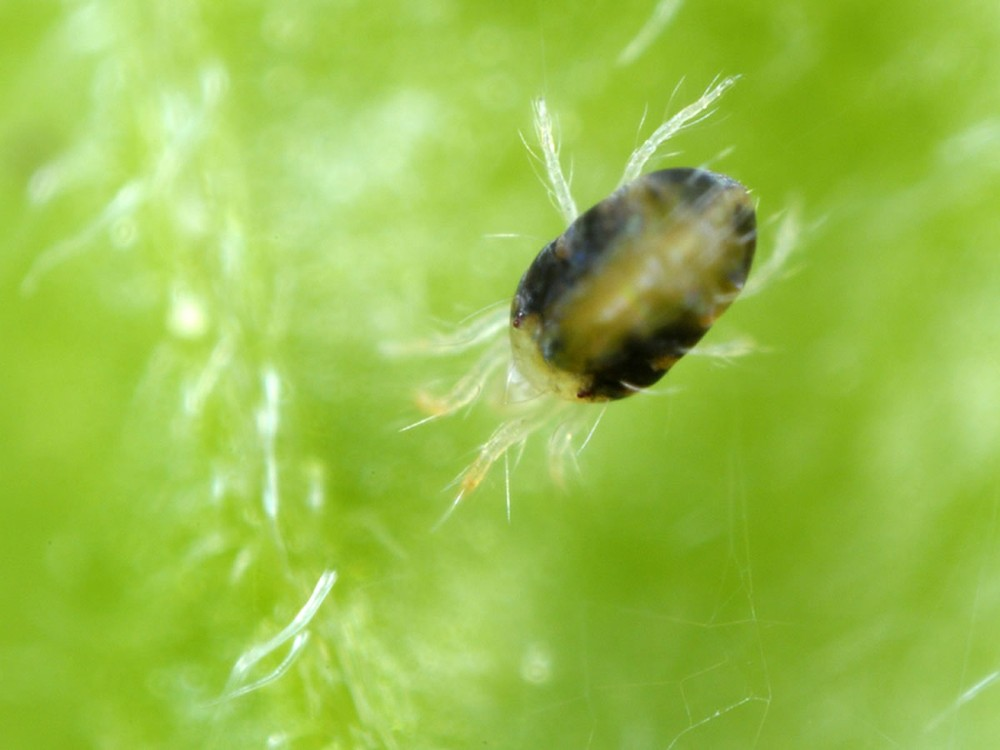Aracnido Rojo: (373, 76, 838, 527)
